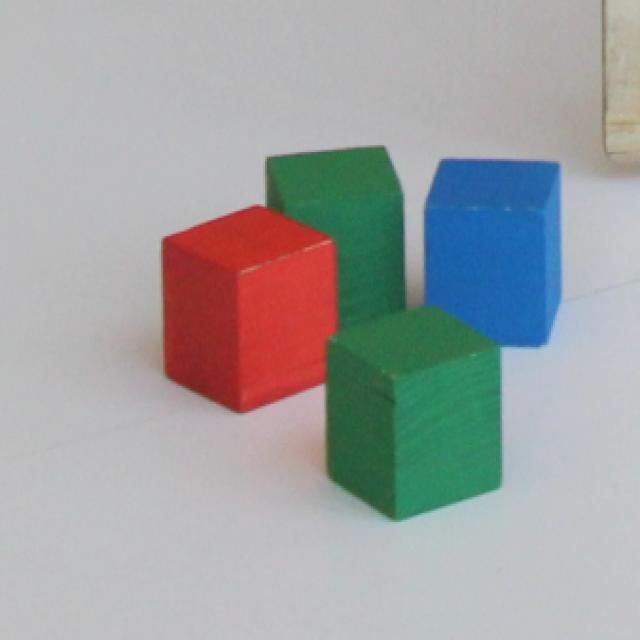bluecube: (420, 156, 562, 344)
green cube: (323, 297, 503, 525), (265, 144, 406, 328)
red cube: (162, 196, 342, 416)
